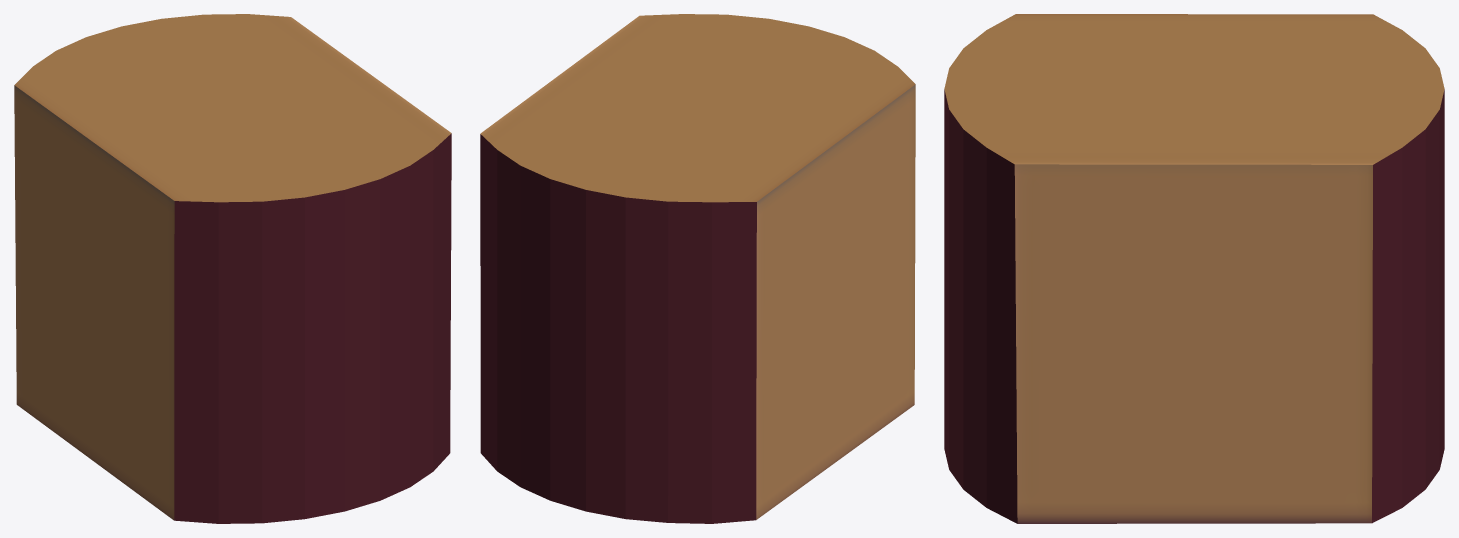
Rendered from centertree.fbx.
The picture shows the model from 3 angles, left to right: view 1: azimuth 30°, elevation 25°; view 2: azimuth 150°, elevation 25°; view 3: azimuth 270°, elevation 25°; orthographic projection. The views are drawn at different scales.
Visible parts, largest first — view 1: SideTree; view 2: SideTree; view 3: SideTree.
Part boxes in pixels (x1,y1,x2,y2): SideTree: (14, 14, 451, 523); SideTree: (480, 14, 915, 523); SideTree: (944, 14, 1444, 523).
Size of the model in its own units: 100 by 111 by 140.
